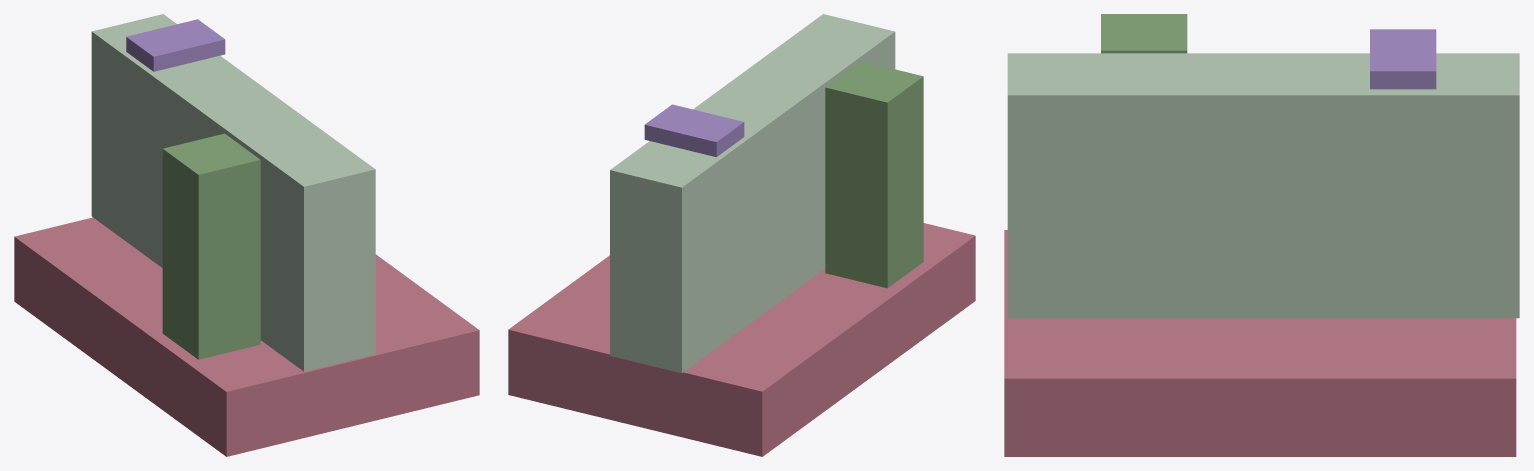
3 views of the same model, side by side, from view 1: azimuth 30°, elevation 25°; view 2: azimuth 150°, elevation 25°; view 3: azimuth 270°, elevation 25° (orthographic). The views are drawn at different scales.
Visible parts, largest first — view 1: world; view 2: world; view 3: world.
Boxes of the visible parts, x1,y1,x2,y2 form: world: [14, 14, 479, 456]; world: [508, 14, 975, 456]; world: [1004, 14, 1519, 456].
Size of the model in its own units: 5.3 by 5.4 by 7.75.
